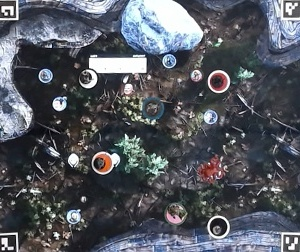black: (199, 155, 232, 185), (205, 211, 232, 239)
brown_turquoise: (142, 97, 165, 120)
orange: (92, 150, 114, 173)
pink_green: (163, 200, 189, 226)
red: (206, 70, 229, 93)
white: (77, 67, 100, 90)
